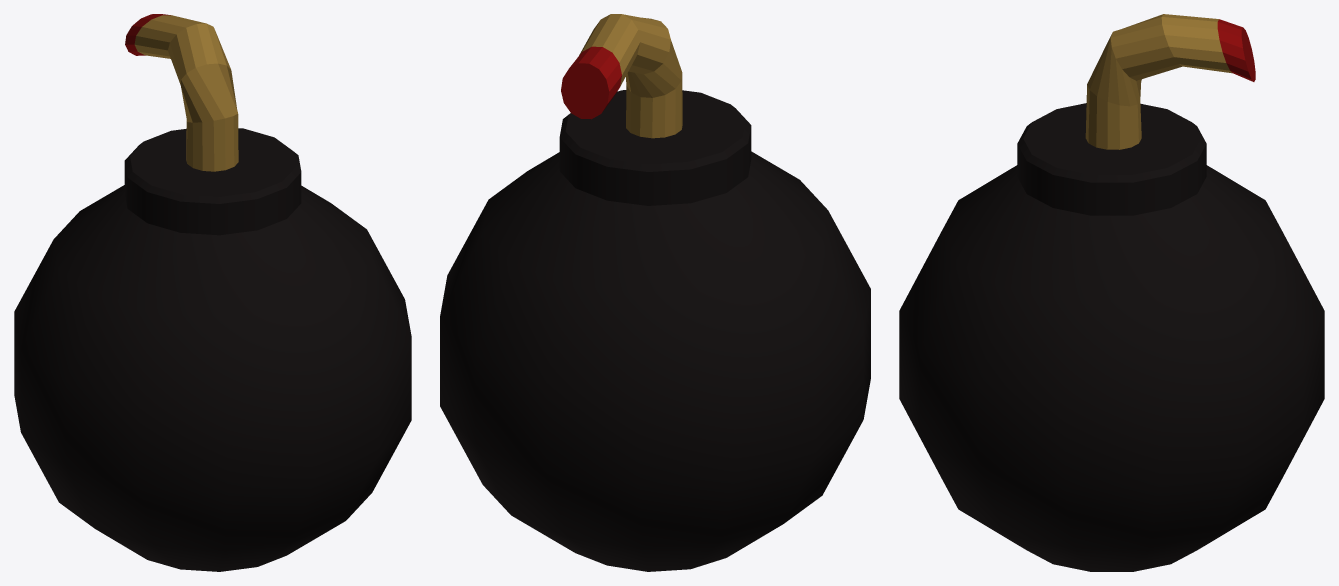
Rendered from y4bomb.fbx.
The picture shows the model from 3 angles, left to right: view 1: azimuth 30°, elevation 25°; view 2: azimuth 150°, elevation 25°; view 3: azimuth 270°, elevation 25°; orthographic projection. The views are drawn at different scales.
Parts seen in each view (by area): view 1: Sphere001; view 2: Sphere001; view 3: Sphere001.
Boxes of the visible parts, x1,y1,x2,y2 form: Sphere001: [14, 14, 411, 571]; Sphere001: [440, 14, 870, 571]; Sphere001: [899, 14, 1324, 571].
Size of the model in its own units: 41.16 by 59.1 by 42.22.
